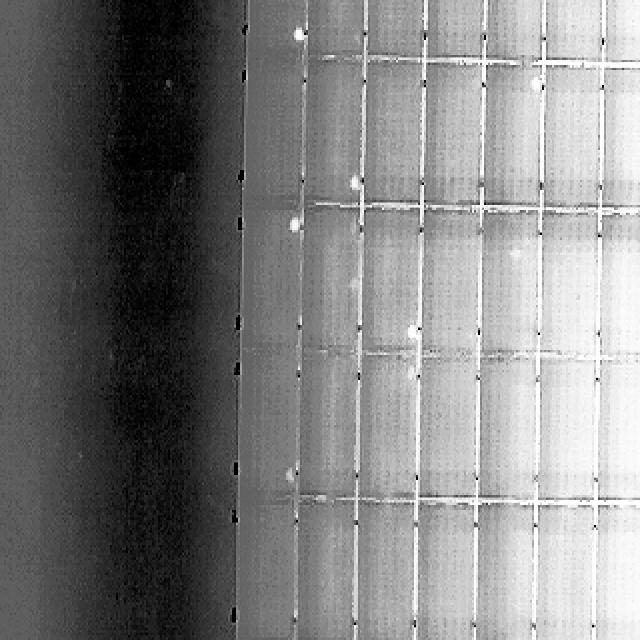Hotspots: (345, 172, 364, 200), (288, 26, 306, 52), (283, 212, 303, 235), (404, 322, 422, 347), (282, 462, 298, 490), (529, 68, 546, 92)
PV-modules: (358, 360, 421, 508), (483, 207, 545, 355), (241, 200, 303, 348), (415, 363, 478, 508), (485, 60, 547, 207), (295, 357, 356, 506), (417, 206, 478, 354), (541, 62, 602, 209), (537, 364, 598, 511), (300, 55, 361, 202), (481, 363, 542, 509), (363, 204, 423, 352), (540, 216, 600, 364), (298, 202, 358, 350), (238, 350, 298, 498), (420, 58, 480, 205), (366, 56, 426, 203), (245, 60, 304, 205), (356, 505, 419, 640), (413, 506, 476, 640), (293, 504, 354, 640), (237, 504, 298, 640), (469, 507, 530, 640), (535, 508, 596, 640), (590, 365, 640, 510), (588, 508, 640, 638), (594, 218, 640, 362), (596, 62, 640, 210), (300, 0, 366, 58), (542, 0, 604, 60), (488, 0, 548, 60), (248, 0, 308, 58), (368, 0, 428, 58), (424, 0, 482, 58), (600, 0, 640, 70)
